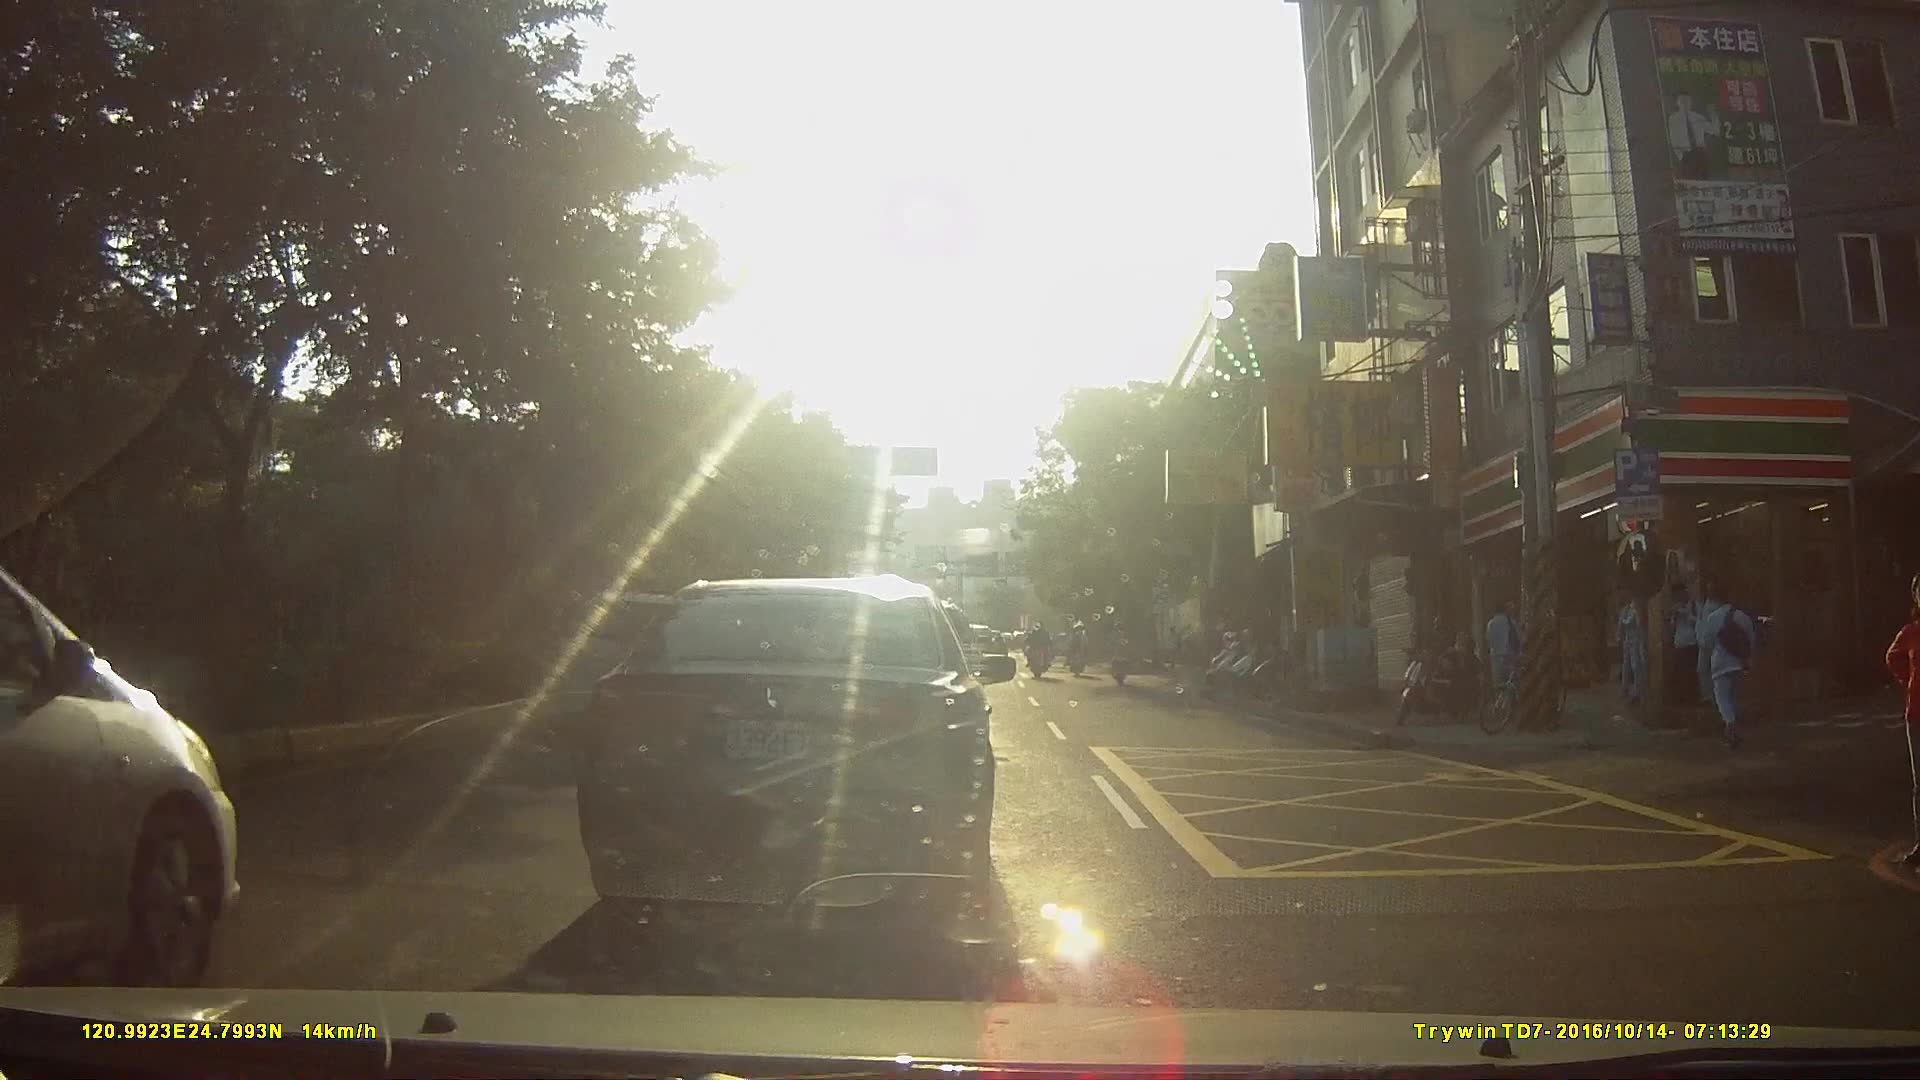pedestrian: (1691, 583, 1768, 753), (1892, 567, 1920, 854), (1481, 599, 1528, 712), (1669, 570, 1706, 710), (1618, 583, 1655, 708)
rider: (1064, 621, 1094, 682), (1023, 620, 1054, 681), (1111, 620, 1135, 688)
vehicle: (558, 566, 1025, 944), (0, 498, 324, 989)
